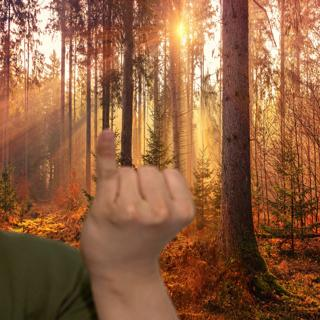FINE: (74, 125, 201, 291)
